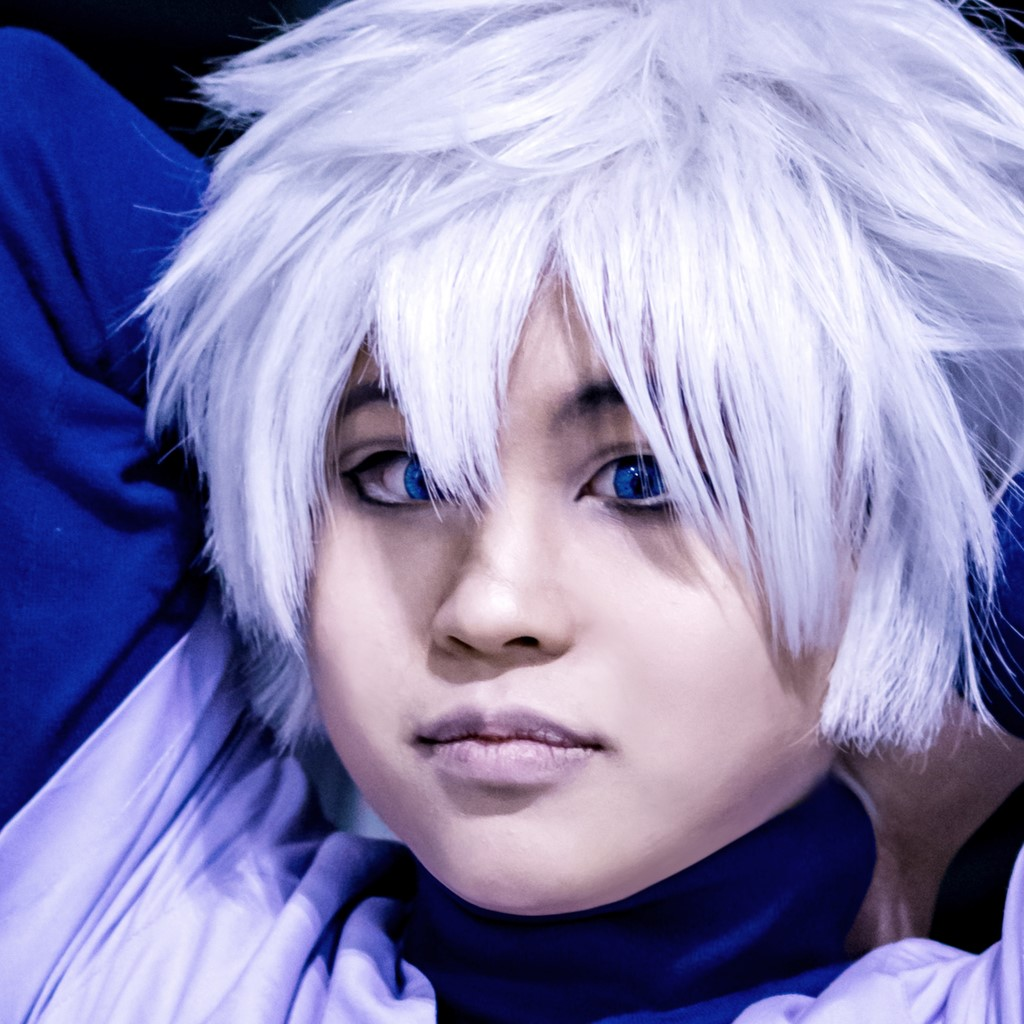sin_mascara: (253, 262, 912, 923)
